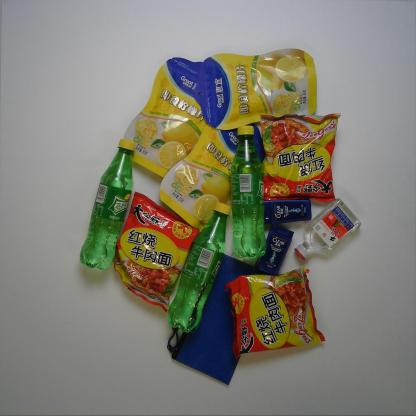Alcohol: (292, 199, 364, 261)
Dried Fruit: (158, 114, 267, 228), (120, 56, 220, 180), (196, 48, 320, 131)
Drink: (164, 201, 230, 334), (78, 139, 135, 273), (230, 126, 268, 259)
Instant Noodles: (111, 189, 201, 313), (226, 267, 326, 358), (258, 110, 340, 204)
Personal Hygiene: (255, 222, 294, 276), (260, 195, 314, 222)
Stationery: (165, 251, 274, 387)
